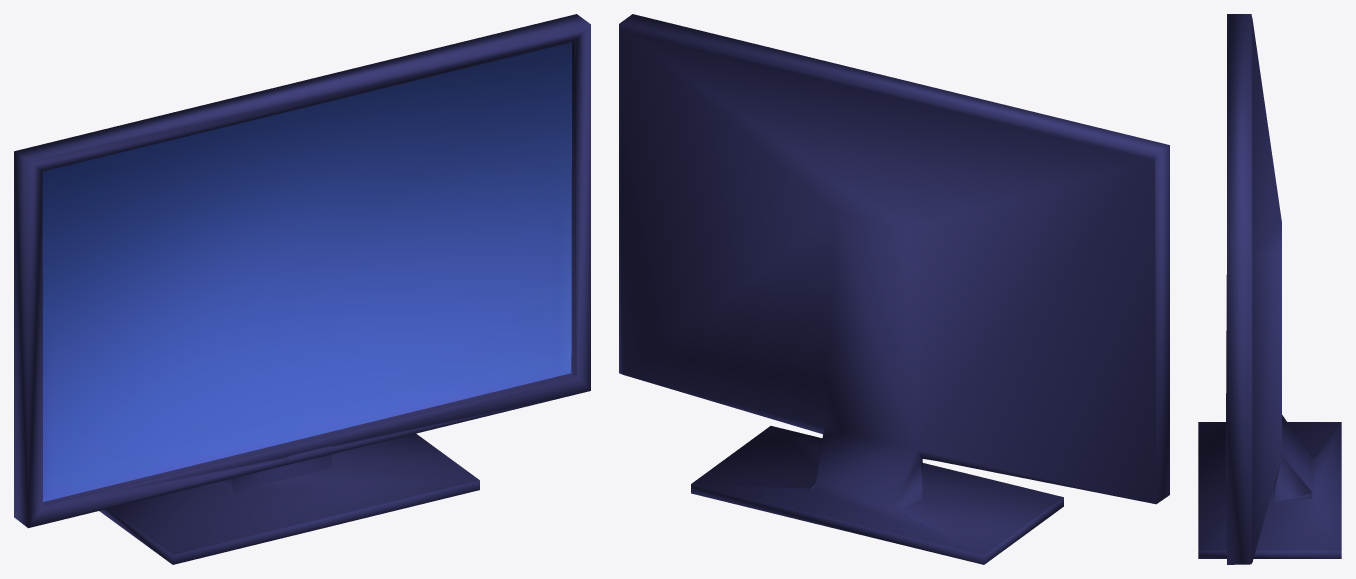
File: model.progressive.glb
3 views of the same model, side by side, from view 1: azimuth 30°, elevation 25°; view 2: azimuth 150°, elevation 25°; view 3: azimuth 270°, elevation 25° (orthographic). The views are drawn at different scales.
Visible parts, largest first — view 1: mesh_input; view 2: mesh_input; view 3: mesh_input.
Boxes of the visible parts, x1,y1,x2,y2 form: mesh_input: [14, 14, 590, 564]; mesh_input: [619, 14, 1169, 564]; mesh_input: [1198, 14, 1341, 564].
Bounding box in the file's own units: 1.88 × 1.35 × 0.4844.
1 material, 1 textured.
